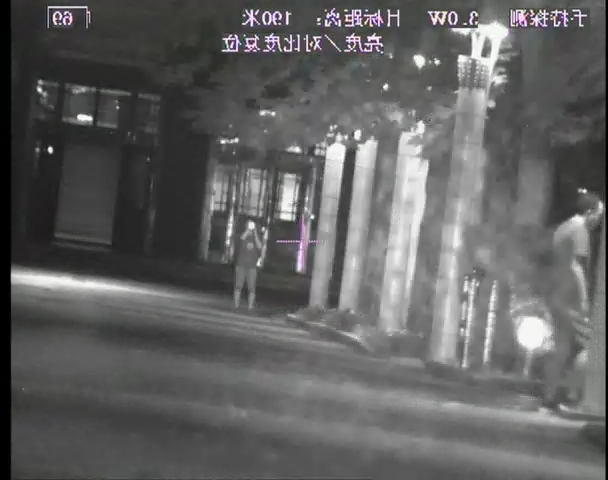my: (247, 220, 256, 230)
